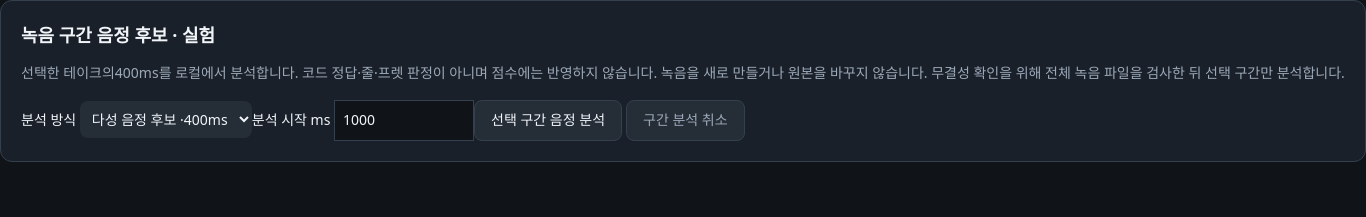
Test: 네이티브 오류를 경로 없이 표시한다
Click the button "선택 구간 음정 분석": {"x": 548, "y": 120} [474,100,622,141]
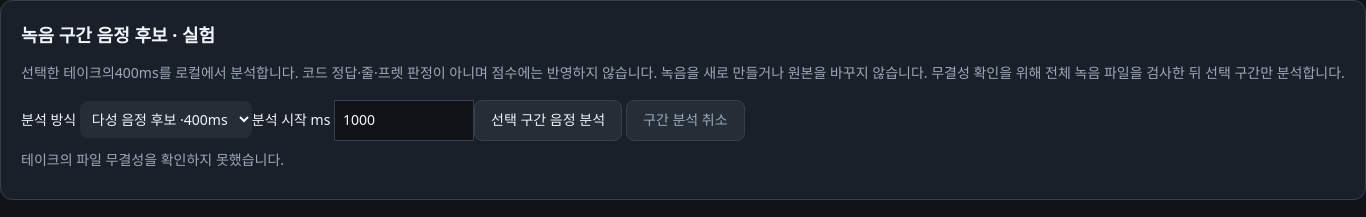
expect the message shows "무결성": met, box [21,150,284,169]
